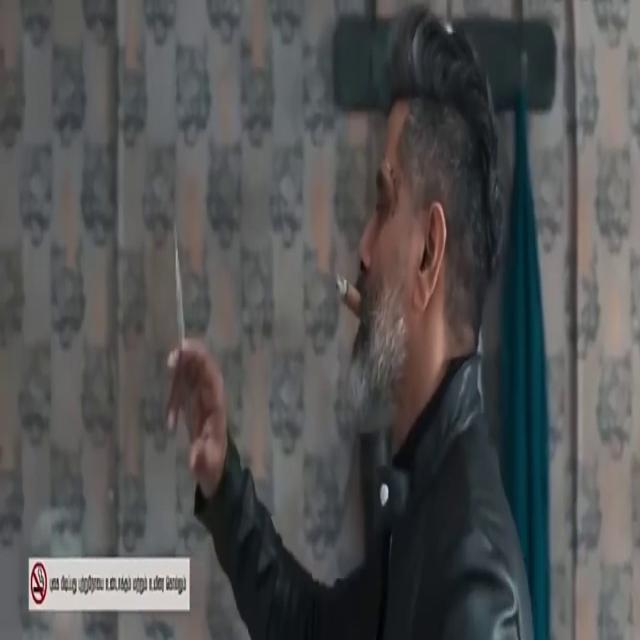smoking: (353, 256, 382, 318)
